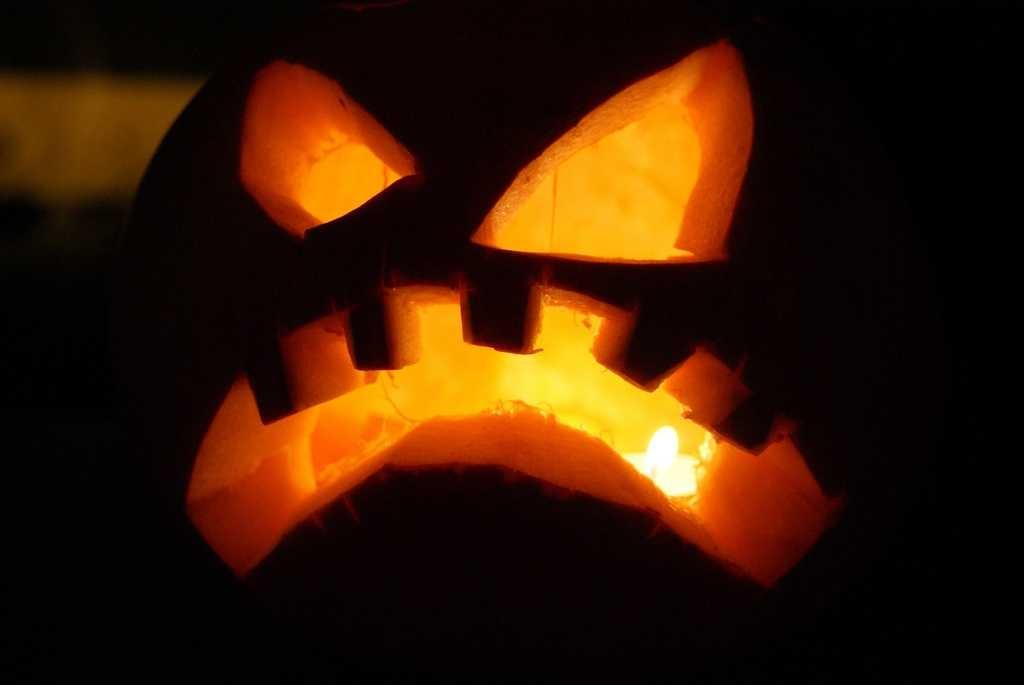fire: (632, 430, 715, 495)
